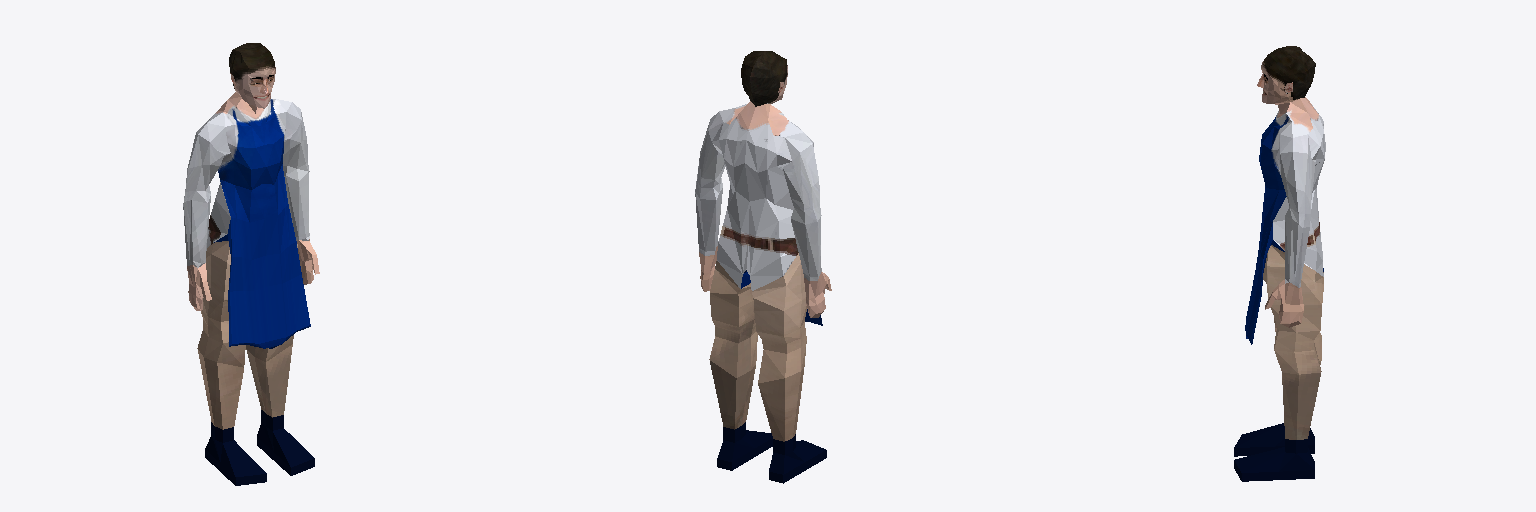
3 views of the same model, side by side, from view 1: azimuth 30°, elevation 25°; view 2: azimuth 150°, elevation 25°; view 3: azimuth 270°, elevation 25° (orthographic).
Parts seen in each view (by area): view 1: pCube11; view 2: pCube11; view 3: pCube11.
Part boxes in pixels (left/top/right/bottom): pCube11: left=183, top=43, right=319, bottom=485; pCube11: left=695, top=51, right=831, bottom=483; pCube11: left=1234, top=46, right=1325, bottom=481.
Bounding box in the file's own units: 49.86 × 157 × 31.65.
1 materials, 1 textured.